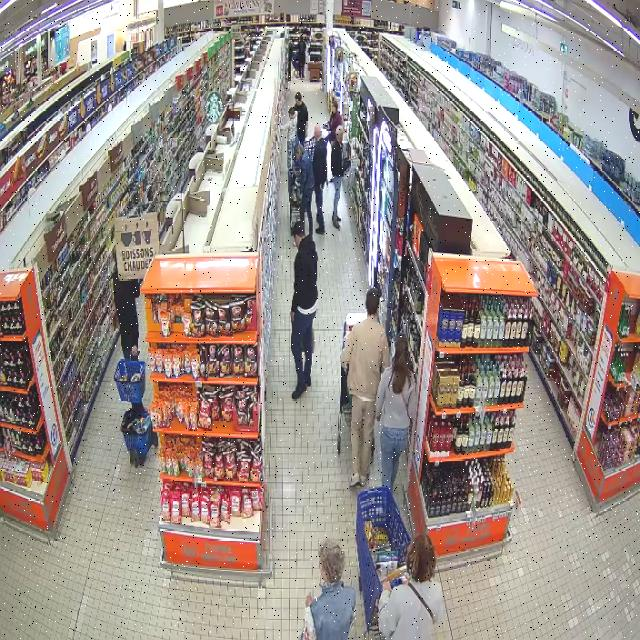hands: (305, 595, 315, 607), (131, 346, 140, 357), (382, 580, 391, 591), (290, 311, 295, 322)
person: (341, 289, 389, 486), (378, 534, 444, 639), (376, 336, 415, 491), (300, 540, 355, 639), (290, 220, 317, 399), (114, 271, 139, 360), (312, 124, 327, 233), (331, 124, 345, 229), (298, 144, 312, 238)
